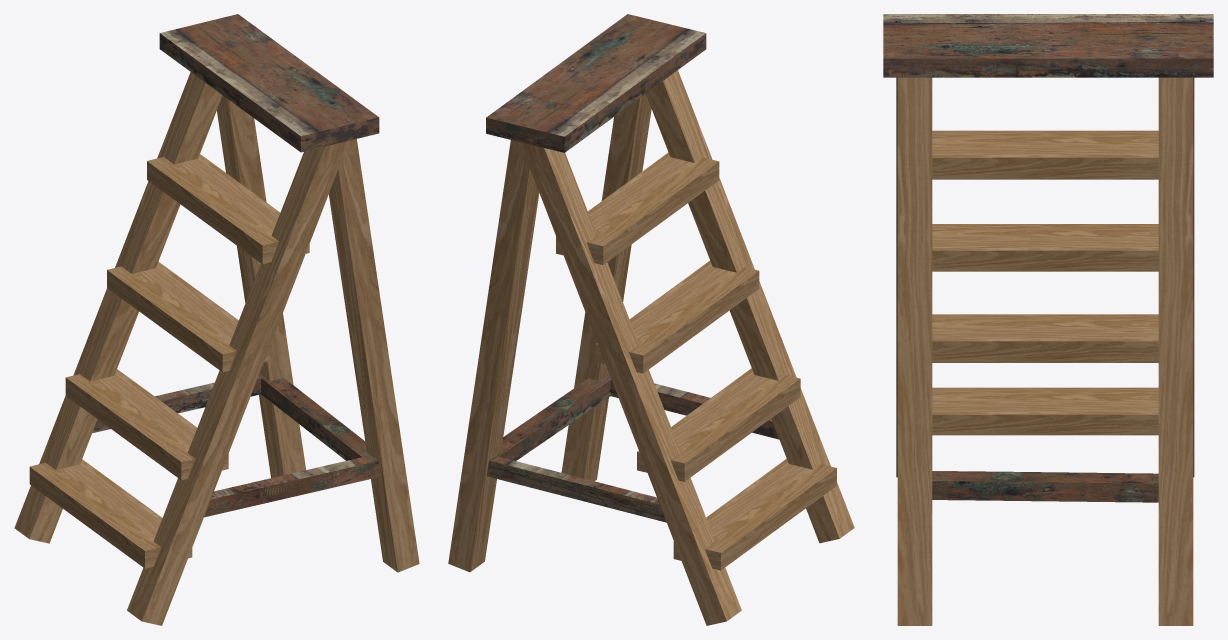
File: ladder.fbx
The picture shows the model from 3 angles, left to right: view 1: azimuth 30°, elevation 25°; view 2: azimuth 150°, elevation 25°; view 3: azimuth 270°, elevation 25°; orthographic projection. The views are drawn at different scales.
Parts seen in each view (by area): view 1: front.r, back.r, top, front.l, support, back.l, 1, 3, 4, 2; view 2: front.l, back.l, top, front.r, support, back.r, 1, 3, 4, 2; view 3: top, back.l, back.r, 1, 3, 4, 2, support, front.r, front.l.
Boxes of the visible parts, bbox=[...] form: front.r: bbox=[127, 141, 348, 625]; back.r: bbox=[328, 139, 419, 572]; top: bbox=[159, 14, 379, 152]; front.l: bbox=[14, 72, 222, 543]; support: bbox=[92, 374, 380, 517]; back.l: bbox=[217, 95, 305, 477]; 1: bbox=[147, 154, 309, 264]; 3: bbox=[65, 369, 228, 480]; 4: bbox=[29, 459, 192, 568]; 2: bbox=[107, 261, 269, 372]; front.l: bbox=[520, 142, 741, 625]; back.l: bbox=[448, 140, 539, 572]; top: bbox=[486, 14, 706, 152]; front.r: bbox=[646, 70, 854, 543]; support: bbox=[487, 373, 779, 522]; back.r: bbox=[561, 93, 651, 481]; 1: bbox=[556, 152, 719, 264]; 3: bbox=[637, 368, 800, 481]; 4: bbox=[673, 459, 836, 570]; 2: bbox=[596, 260, 759, 373]; top: bbox=[883, 14, 1213, 77]; back.l: bbox=[1158, 77, 1193, 625]; back.r: bbox=[897, 77, 932, 625]; 1: bbox=[932, 130, 1158, 179]; 3: bbox=[932, 314, 1158, 362]; 4: bbox=[932, 387, 1158, 435]; 2: bbox=[932, 224, 1158, 271]; support: bbox=[932, 471, 1158, 502]; front.r: bbox=[896, 77, 897, 477]; front.l: bbox=[1193, 77, 1194, 477].
Size of the model in its own units: 646 by 1033 by 567.
